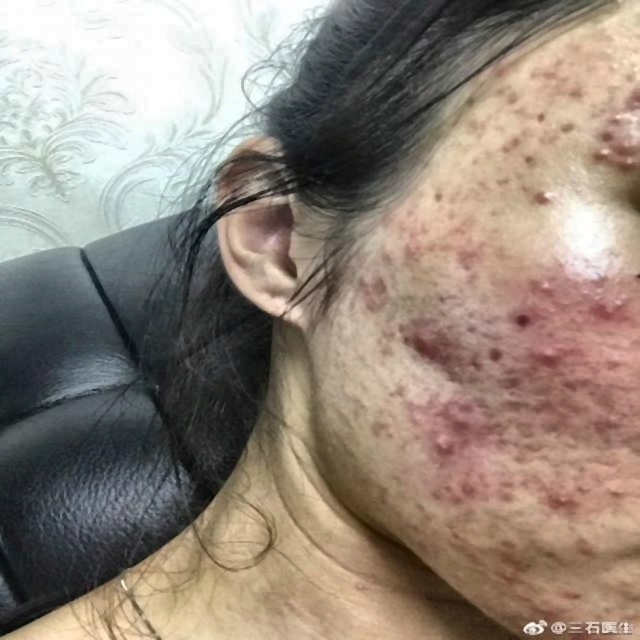papule: (424, 425, 471, 468), (438, 235, 492, 270), (530, 336, 577, 369), (508, 422, 548, 459), (543, 74, 584, 108), (399, 392, 435, 430), (395, 322, 433, 356), (582, 383, 620, 415), (518, 53, 568, 77), (426, 474, 458, 511), (497, 478, 530, 510), (460, 472, 495, 502), (452, 533, 482, 568), (556, 574, 588, 606), (595, 343, 628, 372), (384, 230, 418, 258), (490, 540, 524, 568), (479, 54, 520, 76), (446, 399, 482, 424), (354, 286, 386, 314), (477, 78, 511, 104), (351, 265, 384, 291), (492, 130, 520, 160), (537, 486, 571, 510), (606, 478, 634, 504), (380, 206, 407, 231), (533, 601, 562, 624), (515, 392, 546, 413), (580, 137, 606, 161), (528, 181, 554, 204), (394, 219, 429, 236), (497, 564, 522, 586), (617, 146, 633, 175), (520, 587, 543, 605), (466, 112, 486, 131), (613, 98, 622, 127), (626, 368, 630, 378)
